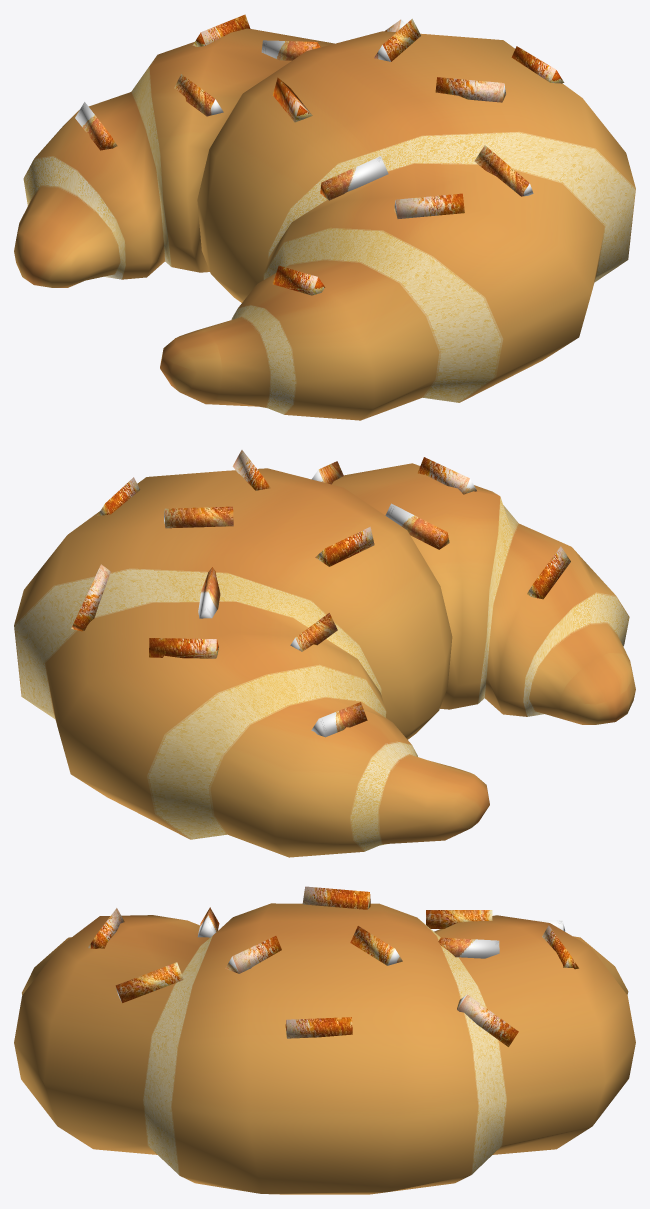
Rendered from croissantSprinkle.gltf.
3 renders of one model, top to bottom at view 1: azimuth 30°, elevation 25°; view 2: azimuth 150°, elevation 25°; view 3: azimuth 270°, elevation 25°, orthographic. The views are drawn at different scales.
Parts seen in each view (by area): view 1: Pink Sprinkle.004; view 2: Pink Sprinkle.004; view 3: Pink Sprinkle.004.
Part boxes in pixels (x1,y1,x2,y2): Pink Sprinkle.004: (14,14,635,420); Pink Sprinkle.004: (14,450,635,857); Pink Sprinkle.004: (14,886,635,1194).
Size of the model in its own units: 1.39 by 0.5972 by 1.58.
